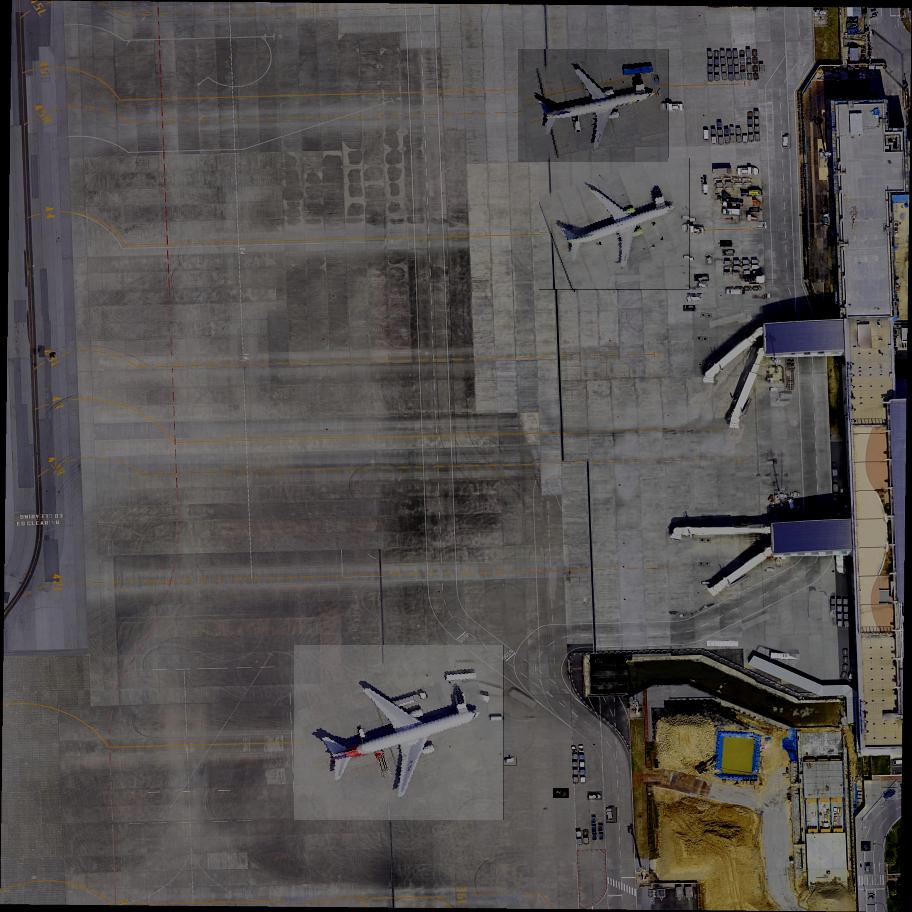large-vehicle: (606, 807, 617, 823), (788, 496, 799, 511), (694, 274, 710, 283), (687, 294, 703, 302), (867, 893, 876, 905), (862, 842, 871, 853), (783, 135, 790, 148), (864, 863, 873, 873), (696, 283, 707, 289)
plane: (294, 644, 504, 821), (540, 154, 690, 290), (518, 44, 670, 164)
small-vehicle: (882, 787, 898, 801), (553, 788, 570, 798), (587, 792, 602, 803), (505, 757, 518, 767), (705, 254, 714, 266), (722, 249, 735, 256), (684, 305, 695, 311), (720, 241, 731, 246)
